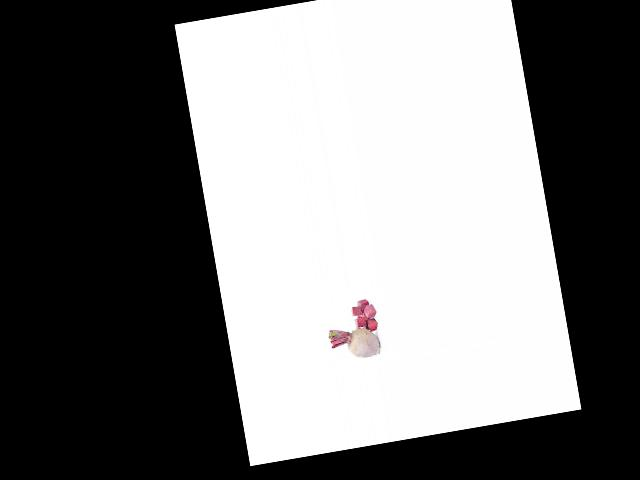beet: (328, 321, 382, 362)
